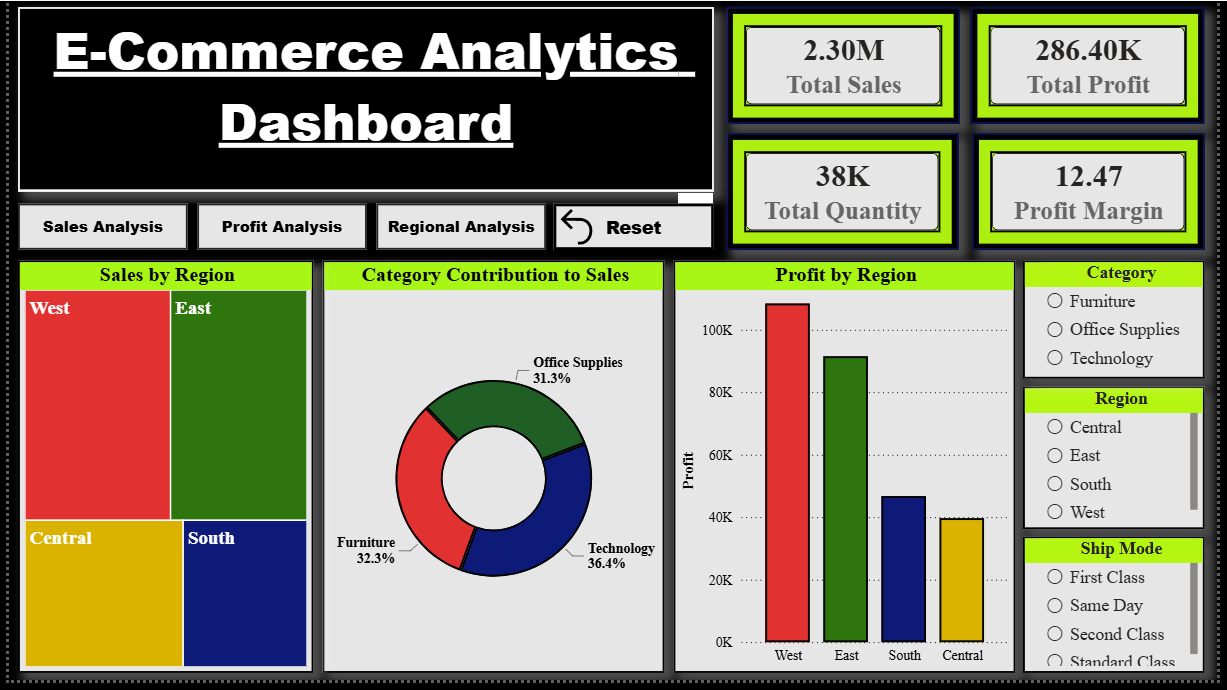

The dashboard page shown, as its layout file describes it:
{"tool":"powerbi","page":{"name":"Dashboard","canvas":[1280,720],"ordinal":0},"visuals":[{"type":"cardVisual","fields":{"Data":["SampleSuperstore.Total Sales"]},"box":[760.3,7,248.1,124.1],"z":0},{"type":"cardVisual","fields":{"Data":["SampleSuperstore.Total Profit"]},"box":[1019.6,7,248.1,124.1],"z":1000},{"type":"cardVisual","fields":{"Data":["SampleSuperstore.Total Quantity"]},"box":[760.3,140,246.5,124.1],"z":2000},{"type":"cardVisual","fields":{"Data":["SampleSuperstore.Profit Margin"]},"box":[1021.2,140,246.5,124.1],"z":3000},{"type":"donutChart","title":"Category Contribution to Sales","fields":{"Y":["Sum(SampleSuperstore.Sales)"],"Category":["SampleSuperstore.Category"]},"box":[333,275.2,362.7,437.4],"z":4000},{"type":"treemap","title":"Sales by Region","fields":{"Group":["SampleSuperstore.Region"],"Values":["Sum(SampleSuperstore.Sales)"]},"box":[10,275.2,313,437.4],"z":5000},{"type":"columnChart","title":"Profit by Region","fields":{"Category":["SampleSuperstore.Region"],"Y":["Sum(SampleSuperstore.Profit)"]},"box":[704,275.2,362.7,437.4],"z":6000},{"type":"listSlicer","fields":{"Values":["SampleSuperstore.Region"]},"box":[1075.3,408.8,192.5,151.1],"z":7000},{"type":"listSlicer","fields":{"Values":["SampleSuperstore.Category"]},"box":[1075.3,275.2,192.5,125.7],"z":8000},{"type":"listSlicer","fields":{"Values":["SampleSuperstore.Ship Mode"]},"box":[1075.3,568,192.5,144.7],"z":9000},{"type":"textbox","box":[9.5,6.4,738,195.6],"z":10000},{"type":"pageNavigator","box":[9.5,214.7,561.5,49.3],"z":11000},{"type":"actionButton","title":"Reset","box":[577.4,214.7,170.2,49.3],"z":12000}]}

Visuals, with their boxes in screenshot pixels (x1, y1, x2, y2), scaled from the page's 1280x720 canvas onto the 1227x690 screenshot:
cardVisual - SampleSuperstore.Total Sales: crop(729, 7, 967, 126)
cardVisual - SampleSuperstore.Total Profit: crop(977, 7, 1215, 126)
cardVisual - SampleSuperstore.Total Quantity: crop(729, 134, 965, 253)
cardVisual - SampleSuperstore.Profit Margin: crop(979, 134, 1215, 253)
"Category Contribution to Sales" donutChart: crop(319, 264, 667, 683)
"Sales by Region" treemap: crop(10, 264, 310, 683)
"Profit by Region" columnChart: crop(675, 264, 1023, 683)
listSlicer - SampleSuperstore.Region: crop(1031, 392, 1215, 537)
listSlicer - SampleSuperstore.Category: crop(1031, 264, 1215, 384)
listSlicer - SampleSuperstore.Ship Mode: crop(1031, 544, 1215, 683)
textbox: crop(9, 6, 717, 194)
pageNavigator: crop(9, 206, 547, 253)
"Reset" actionButton: crop(553, 206, 717, 253)
